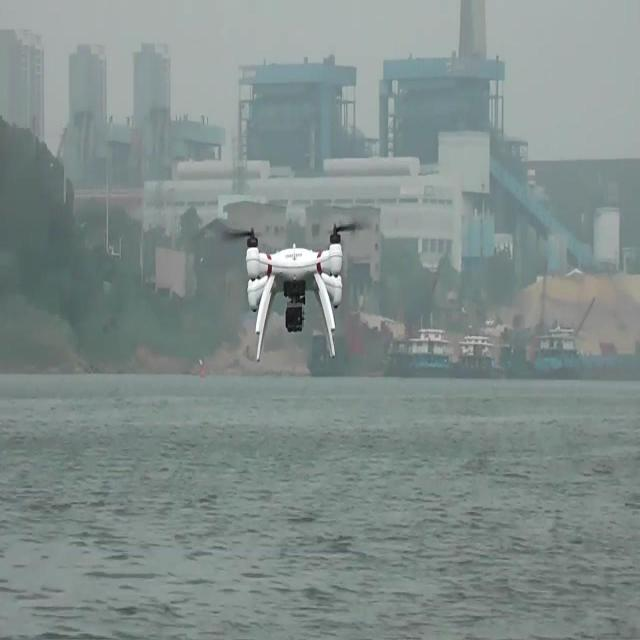drone: (222, 220, 360, 362)
